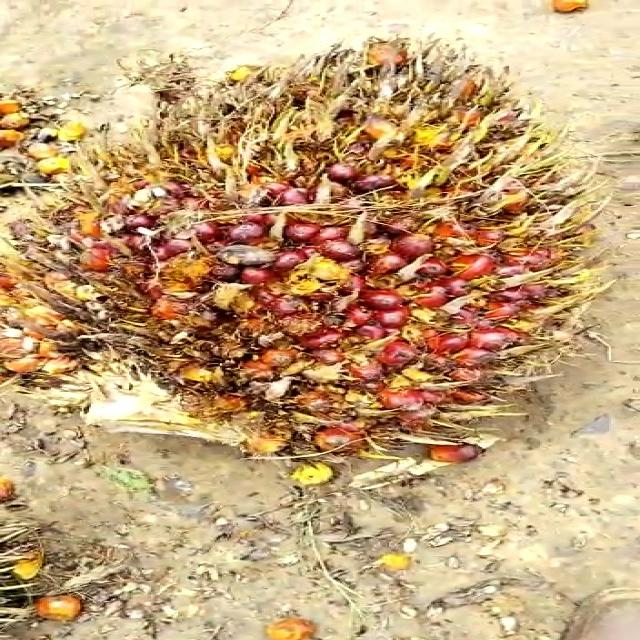palm oil: (19, 39, 612, 471)
